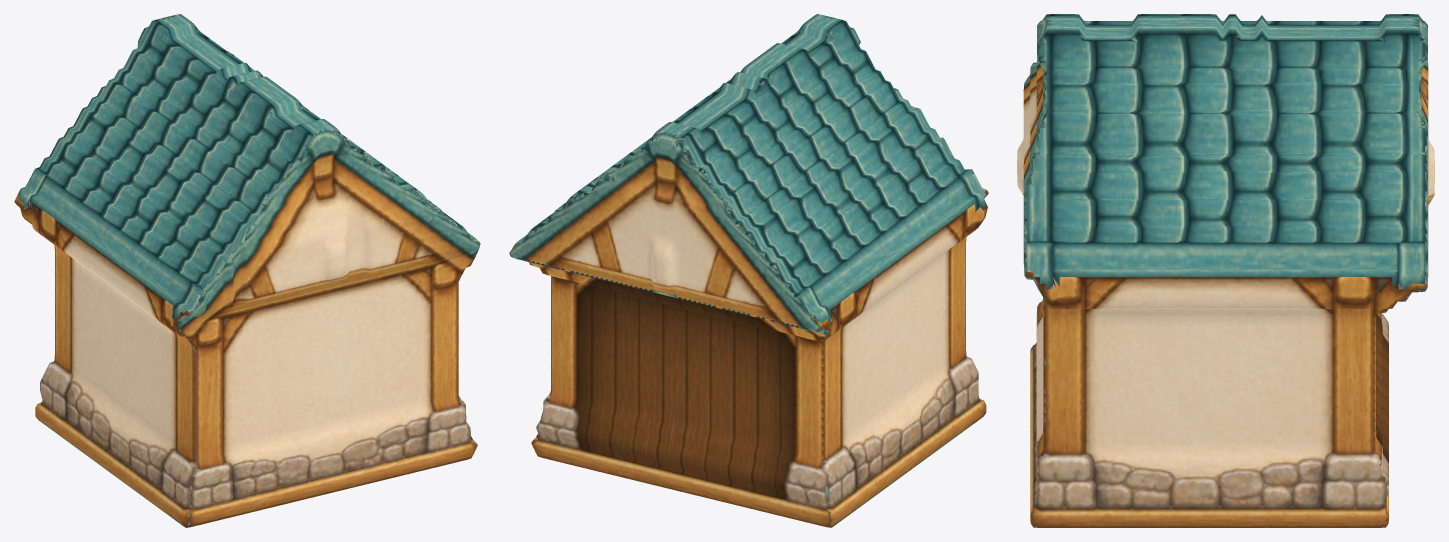
The model's file is potion-shell.glb.
3 renders of one model, left to right at view 1: azimuth 30°, elevation 25°; view 2: azimuth 150°, elevation 25°; view 3: azimuth 270°, elevation 25°, orthographic. The views are drawn at different scales.
Size of the model in its own units: 0.8885 by 1 by 0.8929.
Materials: 1 (1 with a texture image).
